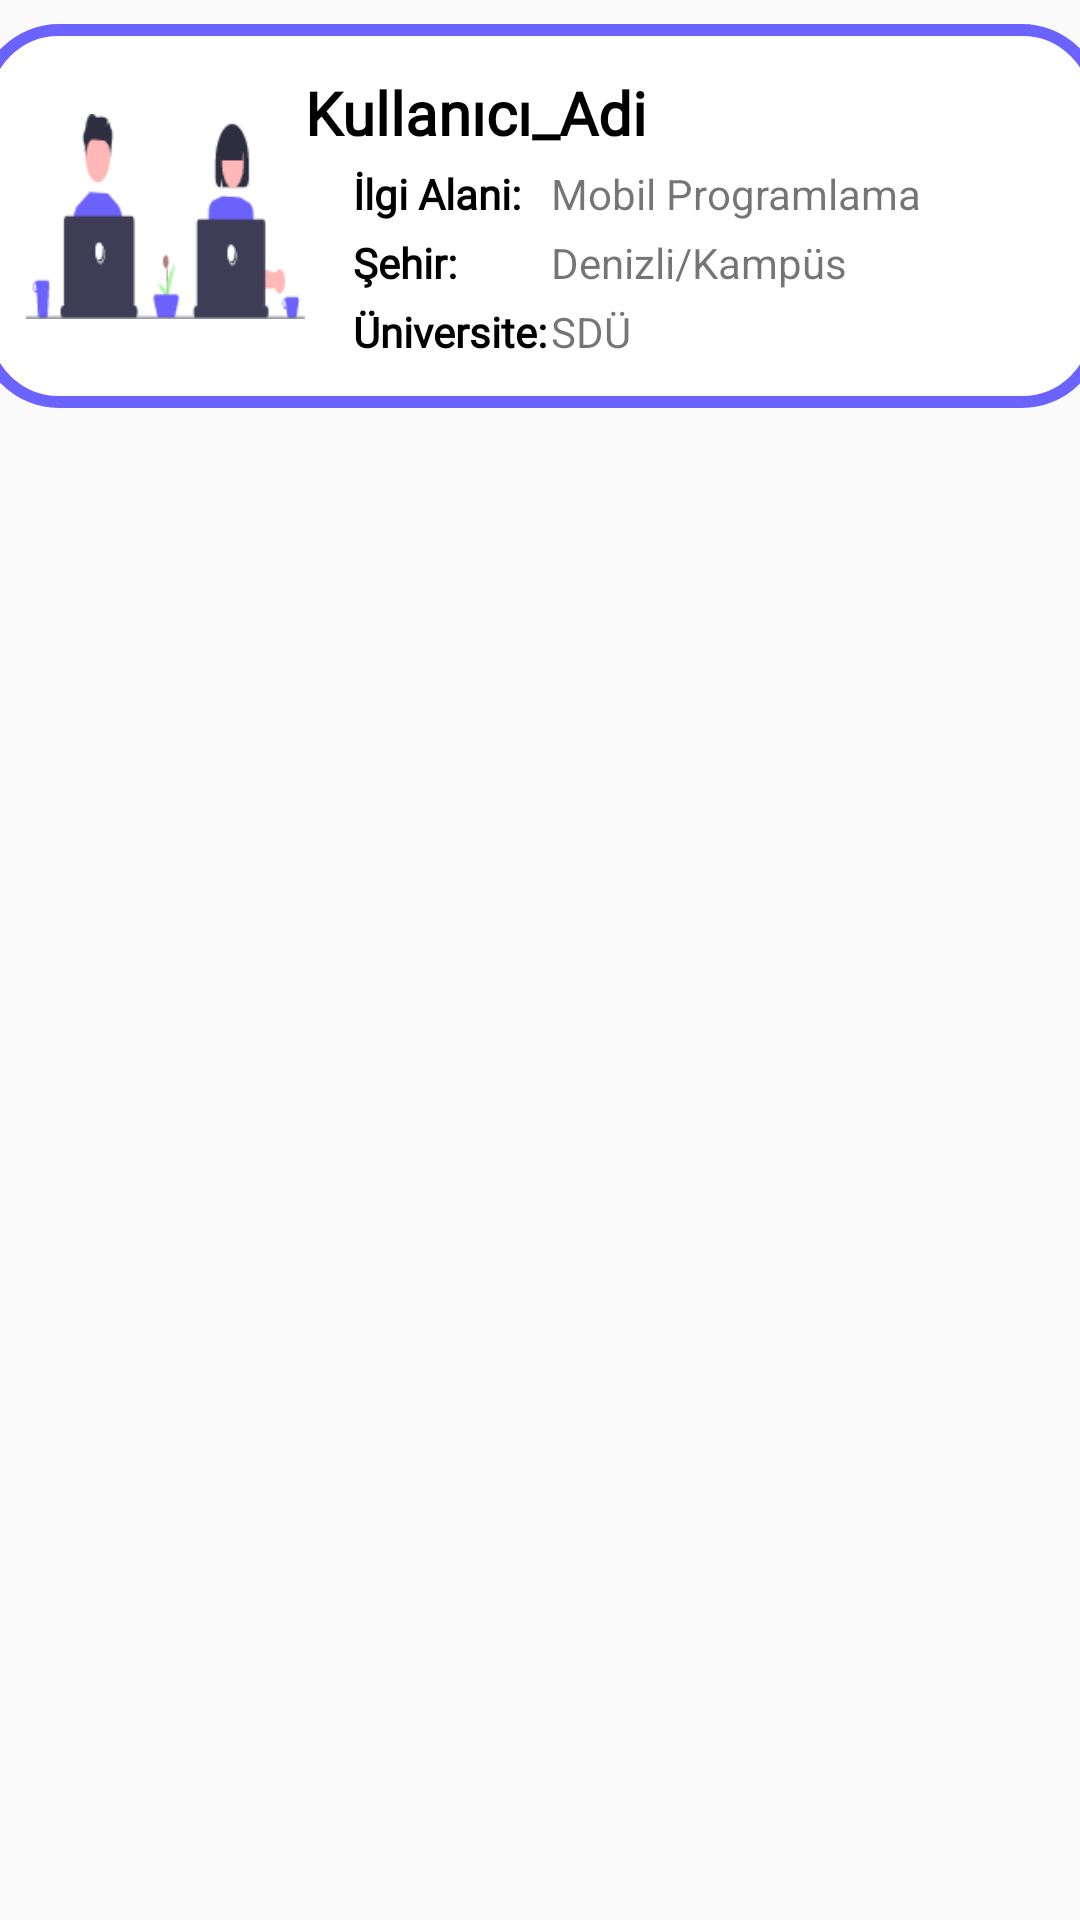

Named icons in this screenshot (1080 x 1920) and their bounding boxes, (x1, y1, x2, y2):
ilan resim: (26, 114, 305, 319)
